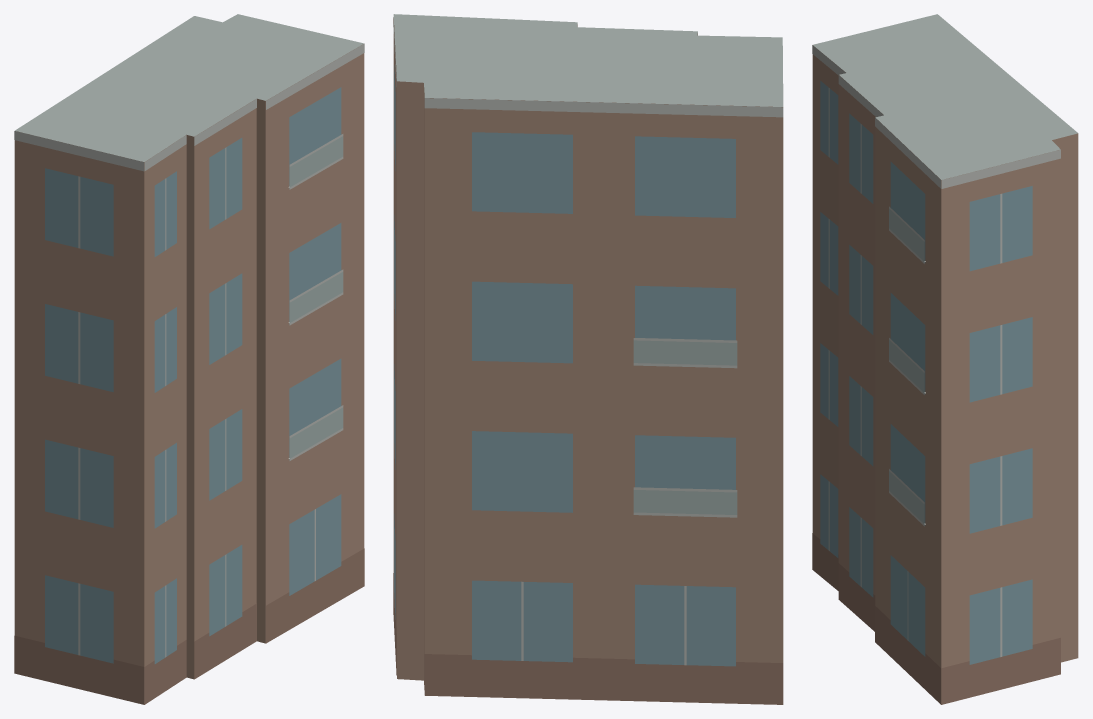
File: survey-upis-32462324.glb
3 views of the same model, side by side, from view 1: azimuth 30°, elevation 25°; view 2: azimuth 150°, elevation 25°; view 3: azimuth 270°, elevation 25° (orthographic). The views are drawn at different scales.
Parts seen in each view (by area): view 1: survey-upis-32462324.tmp; view 2: survey-upis-32462324.tmp; view 3: survey-upis-32462324.tmp.
Boxes of the visible parts, x1,y1,x2,y2 form: survey-upis-32462324.tmp: (14,14,364,704); survey-upis-32462324.tmp: (393,14,783,704); survey-upis-32462324.tmp: (812,14,1078,704).
Bounding box in the file's own units: 9.61 × 14.15 × 6.51.
